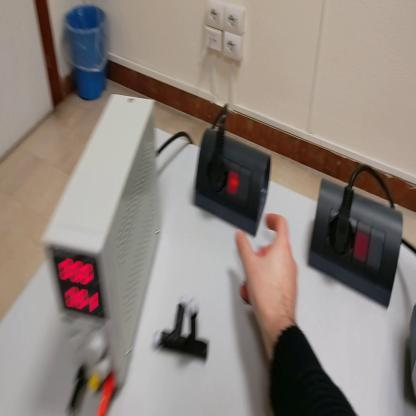hand: (235, 212, 300, 329)
oscilloscope: (407, 301, 415, 403)
power supply: (43, 89, 166, 391)
socket: (310, 179, 405, 311), (190, 129, 273, 239)
